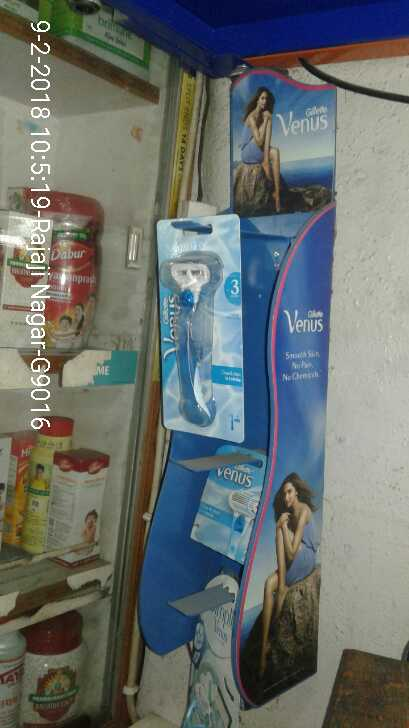beauty: (158, 222, 241, 424), (190, 445, 267, 563)
